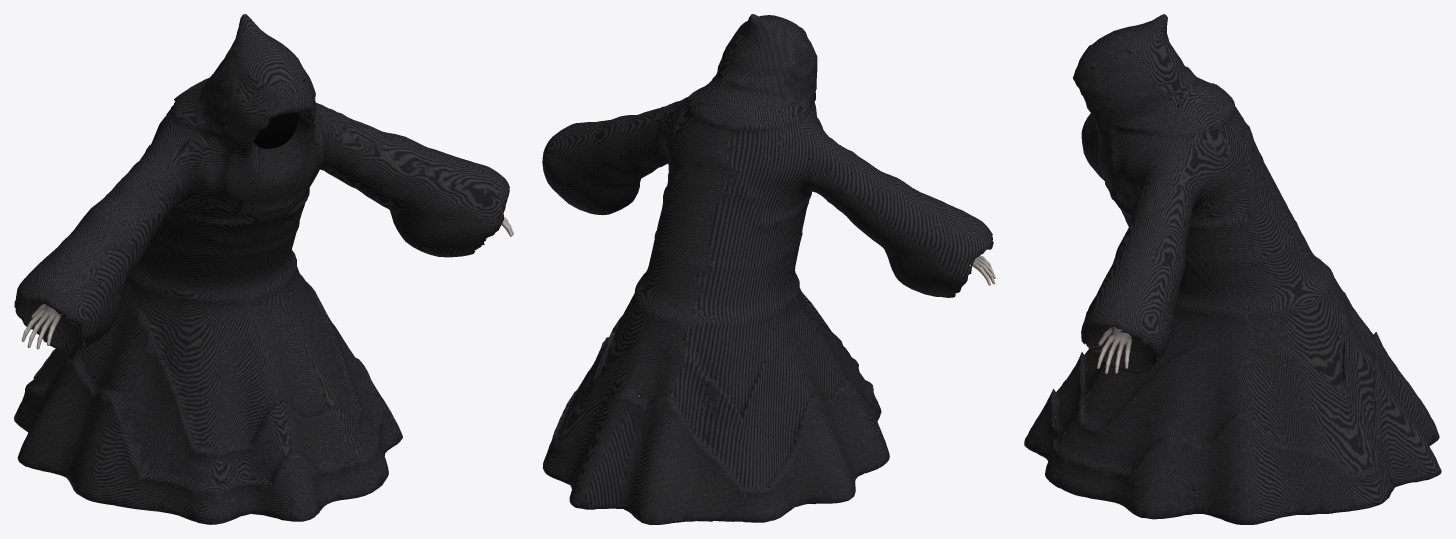
Rendered from kneeling_acolyte.glb.
3 views of the same model, side by side, from view 1: azimuth 30°, elevation 25°; view 2: azimuth 150°, elevation 25°; view 3: azimuth 270°, elevation 25° (orthographic). The views are drawn at different scales.
Parts seen in each view (by area): view 1: Robe, Hands, Hood_Void; view 2: Robe; view 3: Robe, Hands.
Part boxes in pixels (x1=…): Robe: x1=14, y1=14, x2=509, y2=524; Hands: x1=21, y1=216, x2=513, y2=349; Hood_Void: x1=254, y1=112, x2=298, y2=148; Robe: x1=542, y1=14, x2=993, y2=524; Robe: x1=1024, y1=14, x2=1441, y2=524; Hands: x1=1097, y1=326, x2=1131, y2=373.
Size of the model in its own units: 1.46 by 1.3 by 1.13.
1 material, 1 textured.
